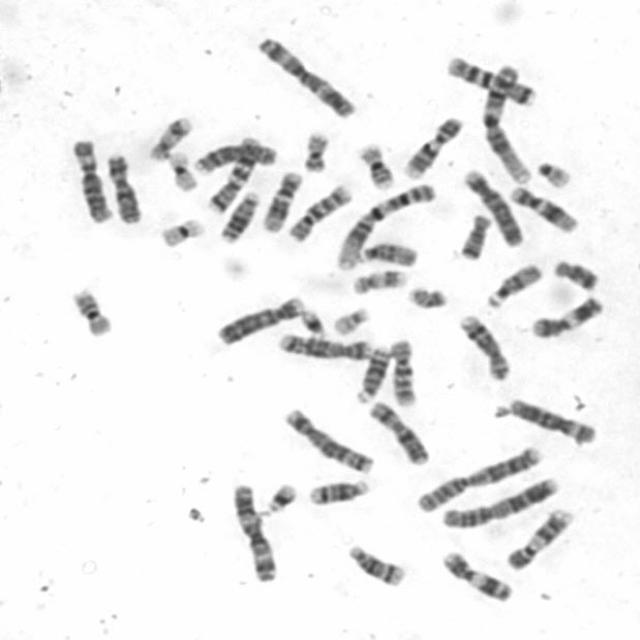A1: (333, 183, 437, 274), (480, 62, 538, 188)
A2: (414, 441, 544, 516), (440, 475, 560, 532)
A3: (253, 34, 357, 120), (230, 482, 278, 585)
B4: (459, 167, 526, 248), (214, 294, 305, 348)
B5: (284, 407, 378, 475), (275, 331, 374, 361)
C10: (284, 181, 354, 245), (386, 335, 420, 409)
C11: (436, 550, 515, 604), (530, 295, 607, 340)
C12: (506, 184, 580, 234), (257, 168, 308, 235)
C6: (504, 396, 598, 446), (67, 137, 114, 225)
C7: (448, 56, 536, 110), (206, 134, 262, 216)
C8: (454, 314, 511, 383), (192, 144, 277, 177)
C9: (504, 506, 575, 572), (401, 115, 463, 181)
D13: (217, 188, 266, 244), (355, 345, 394, 405)
D14: (344, 542, 414, 592), (306, 479, 372, 506)
D15: (485, 261, 543, 308), (360, 242, 418, 270)
E16: (67, 285, 117, 339), (355, 142, 396, 191)
E17: (147, 114, 192, 162), (350, 270, 408, 296)
E18: (551, 256, 604, 292), (458, 214, 491, 261)
F19: (157, 216, 206, 251), (168, 150, 198, 192)
F20: (302, 132, 332, 173), (405, 285, 449, 312)
G21: (257, 481, 298, 519), (297, 308, 329, 342)
G22: (533, 160, 576, 190), (330, 306, 374, 335)
X: (366, 399, 434, 468), (103, 153, 144, 226)
